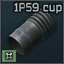KMZ 1P59 scope eyecup: (0, 0, 64, 64)
